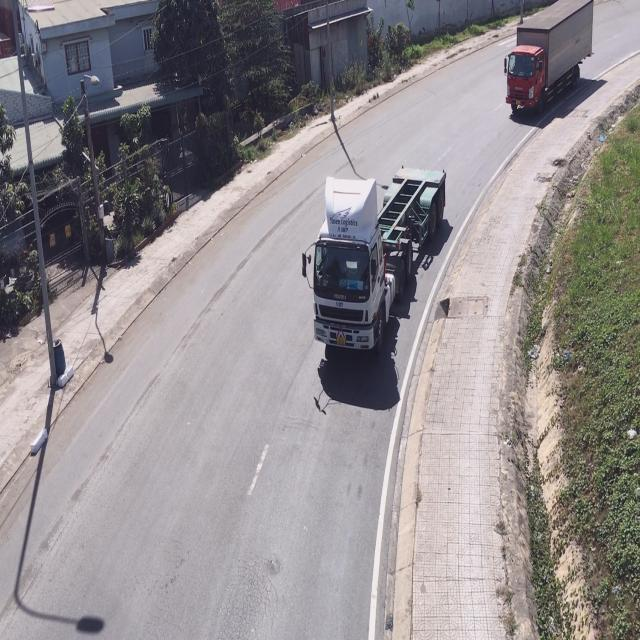truck: (313, 172, 454, 363), (506, 0, 594, 116)
